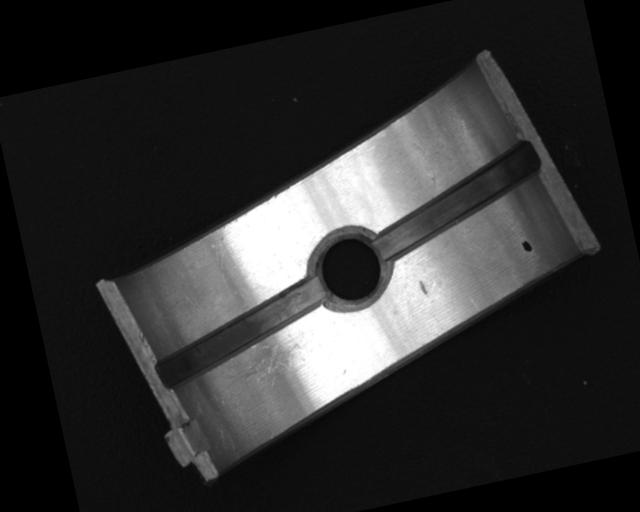blot: (520, 238, 534, 255)
bruise: (417, 279, 428, 296)
gap: (361, 141, 554, 261), (142, 275, 337, 392)
hole: (306, 223, 397, 314)
scratch: (213, 328, 320, 399)
